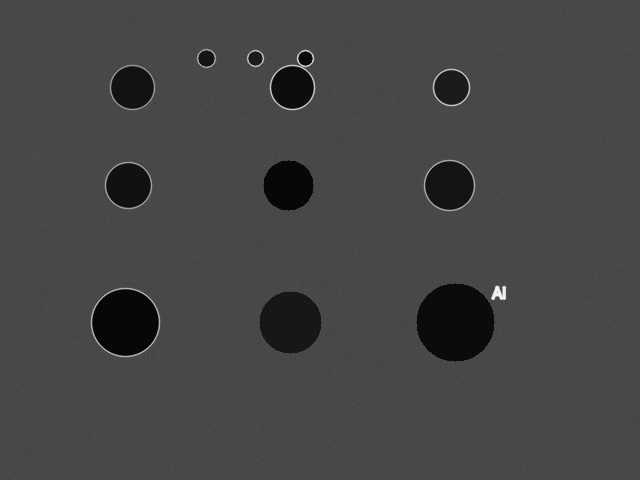hole: (416, 283, 494, 361), (91, 288, 159, 356), (259, 291, 321, 353), (263, 160, 313, 210), (424, 160, 474, 210), (105, 162, 151, 208), (110, 65, 154, 109), (270, 65, 314, 109), (433, 69, 469, 105), (197, 49, 215, 67), (247, 50, 263, 66), (297, 50, 313, 66)
